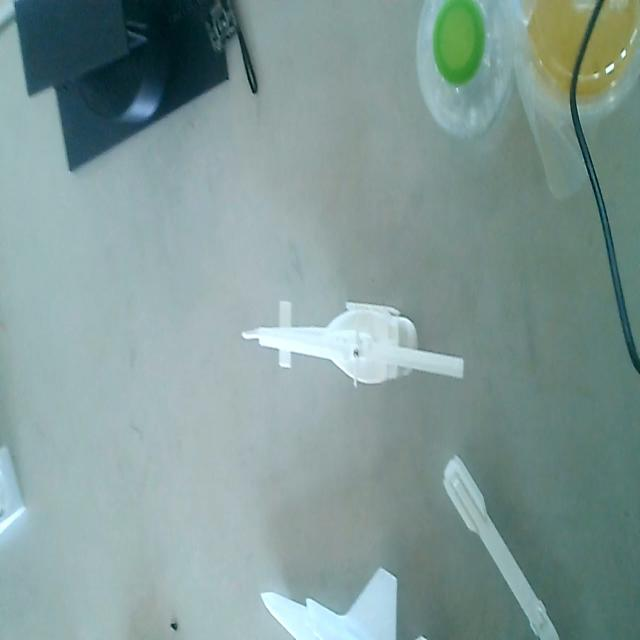Helicopter: (240, 299, 466, 400)
Jet: (258, 557, 426, 640)
Rocket: (442, 443, 563, 640)
